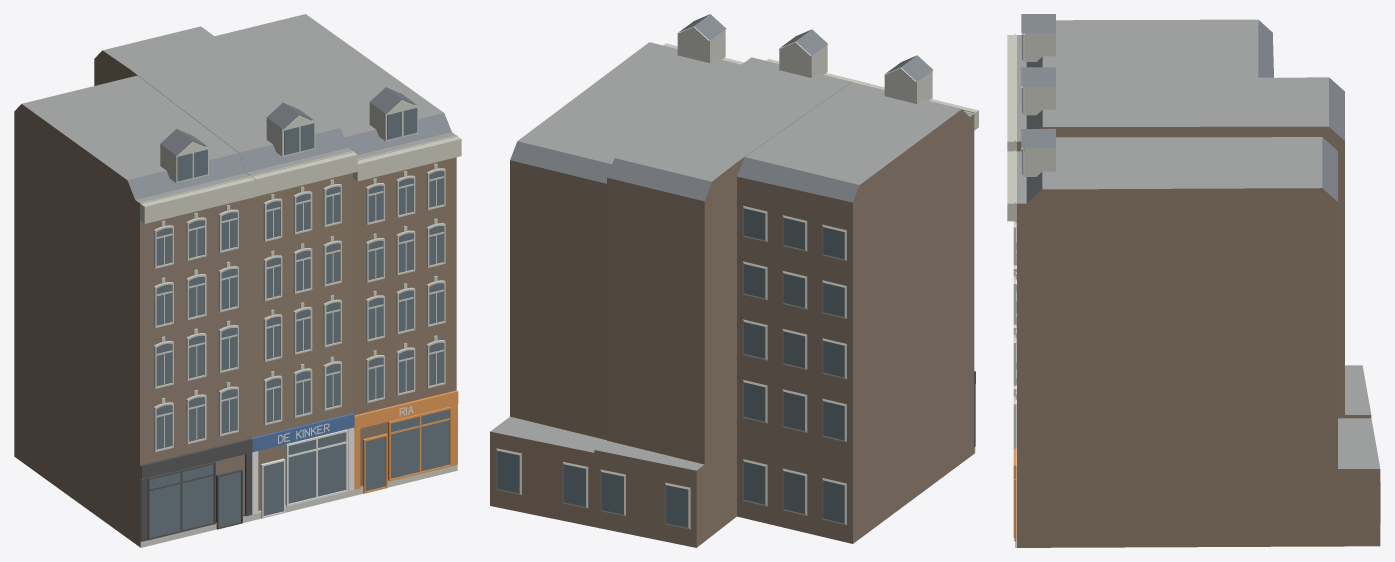
The model's file is chunk-face-kinker-376-380.glb.
3 views of the same model, side by side, from view 1: azimuth 30°, elevation 25°; view 2: azimuth 150°, elevation 25°; view 3: azimuth 270°, elevation 25° (orthographic). The views are drawn at different scales.
Parts seen in each view (by area): view 1: face-kinker-376-380; view 2: face-kinker-376-380; view 3: face-kinker-376-380.
Part boxes in pixels (bbox=[...]): face-kinker-376-380: bbox=[14, 14, 461, 547]; face-kinker-376-380: bbox=[490, 14, 978, 547]; face-kinker-376-380: bbox=[1007, 14, 1380, 547].
Bounding box in the file's own units: 15.56 × 18.3 × 15.37.
